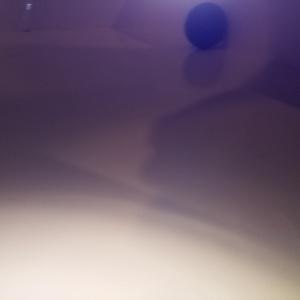dead_ball: (184, 1, 228, 49)
